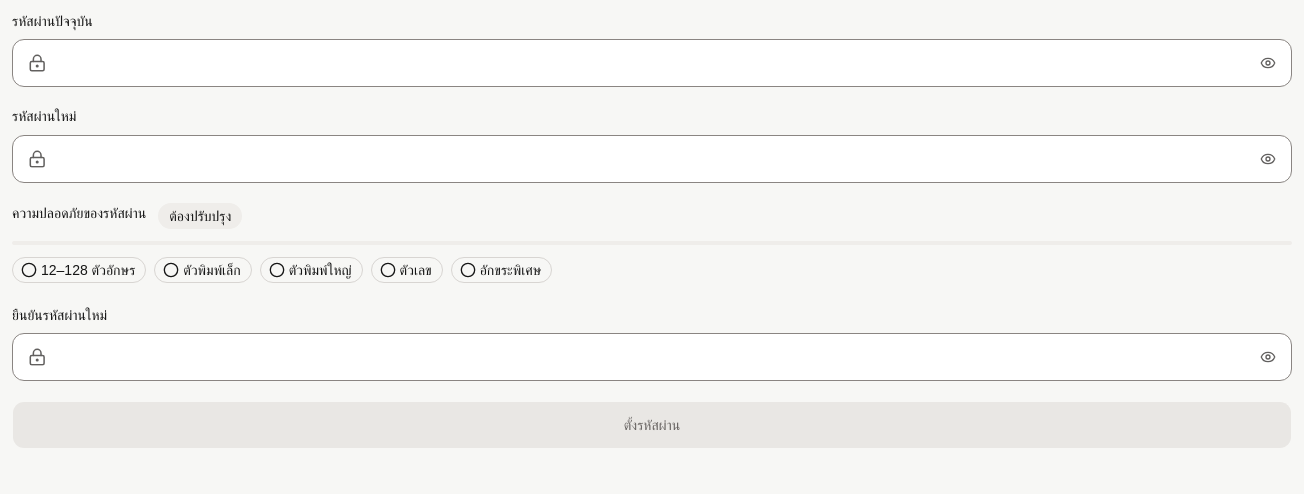
it: Student authentication forms › highlights a confirmation mismatch and prevents password-change submission
Type "temporary-password" into the password field labelled "รหัสผ่านปัจจุบัน" at (652, 63), box [12,39,1292,87]
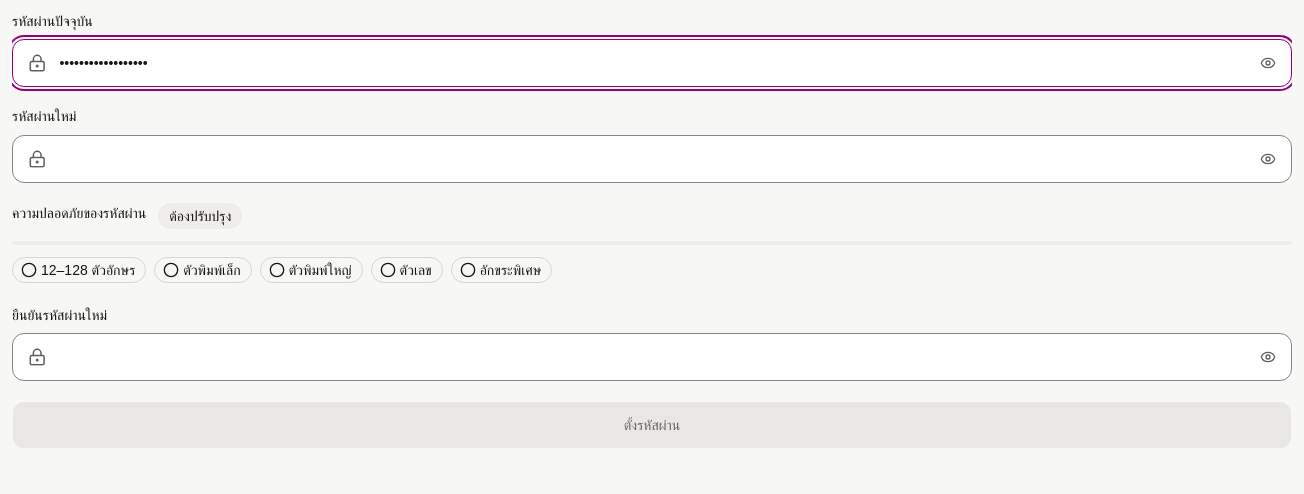
Type "StrongPassword1!" into the password field labelled "รหัสผ่านใหม่" at (652, 158), box [12,134,1292,182]
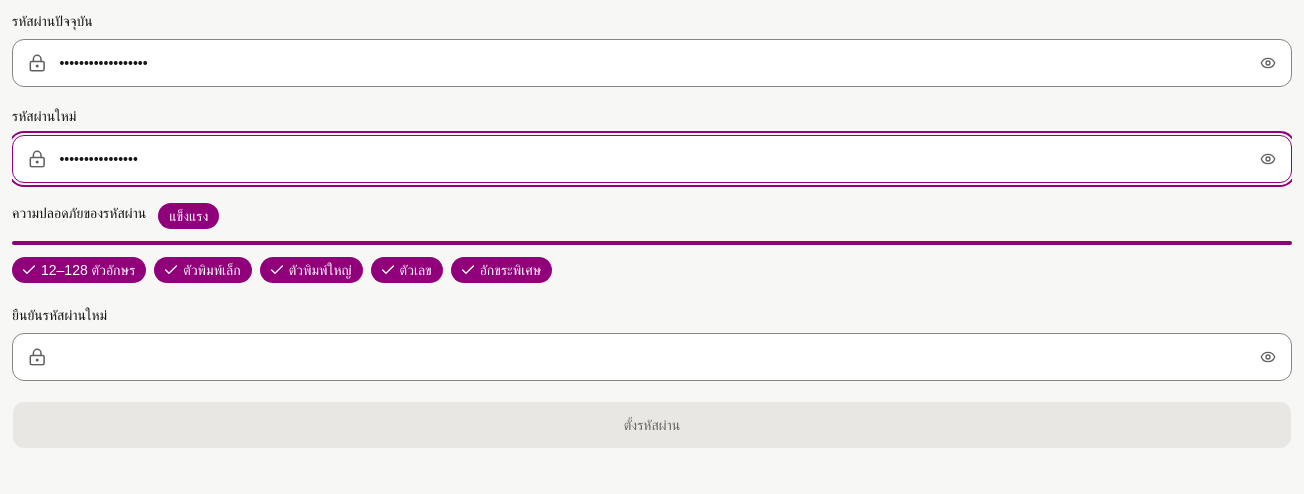
Type "DifferentPassword2!" into the password field labelled "ยืนยันรหัสผ่านใหม่" at (652, 357), box [12,333,1292,381]
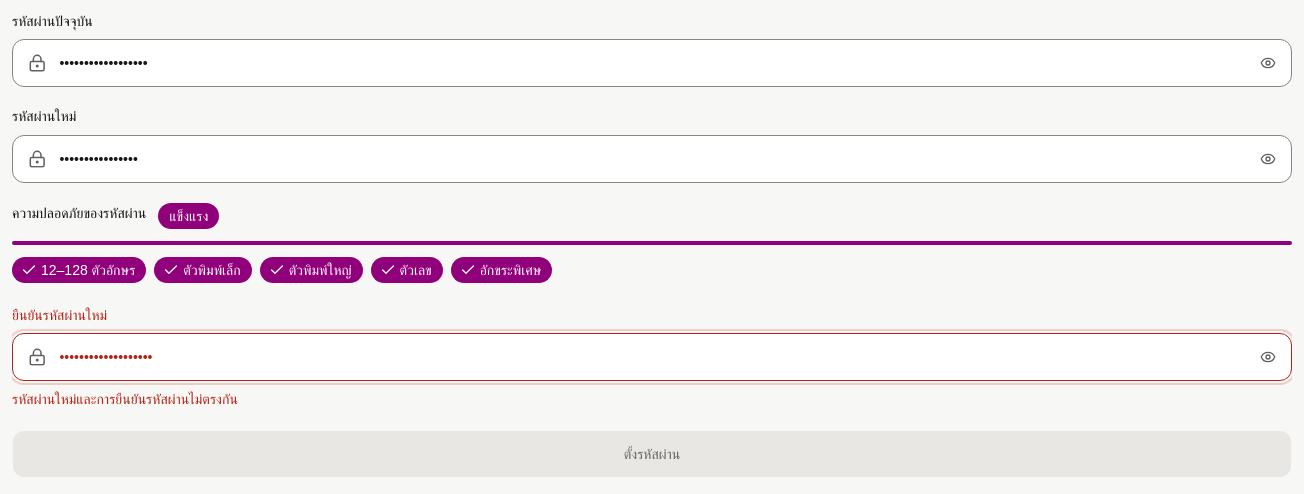
Check: the button "ตั้งรหัสผ่าน" is disabled, box [12,430,1292,478]
Check: the text "รหัสผ่านใหม่และการยืนยันรหัสผ่านไม่ตรงกัน" is shown, box [12,391,238,407]
